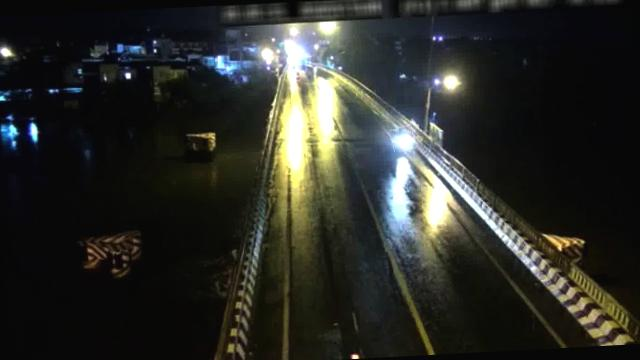Bike: (390, 126, 416, 151)
